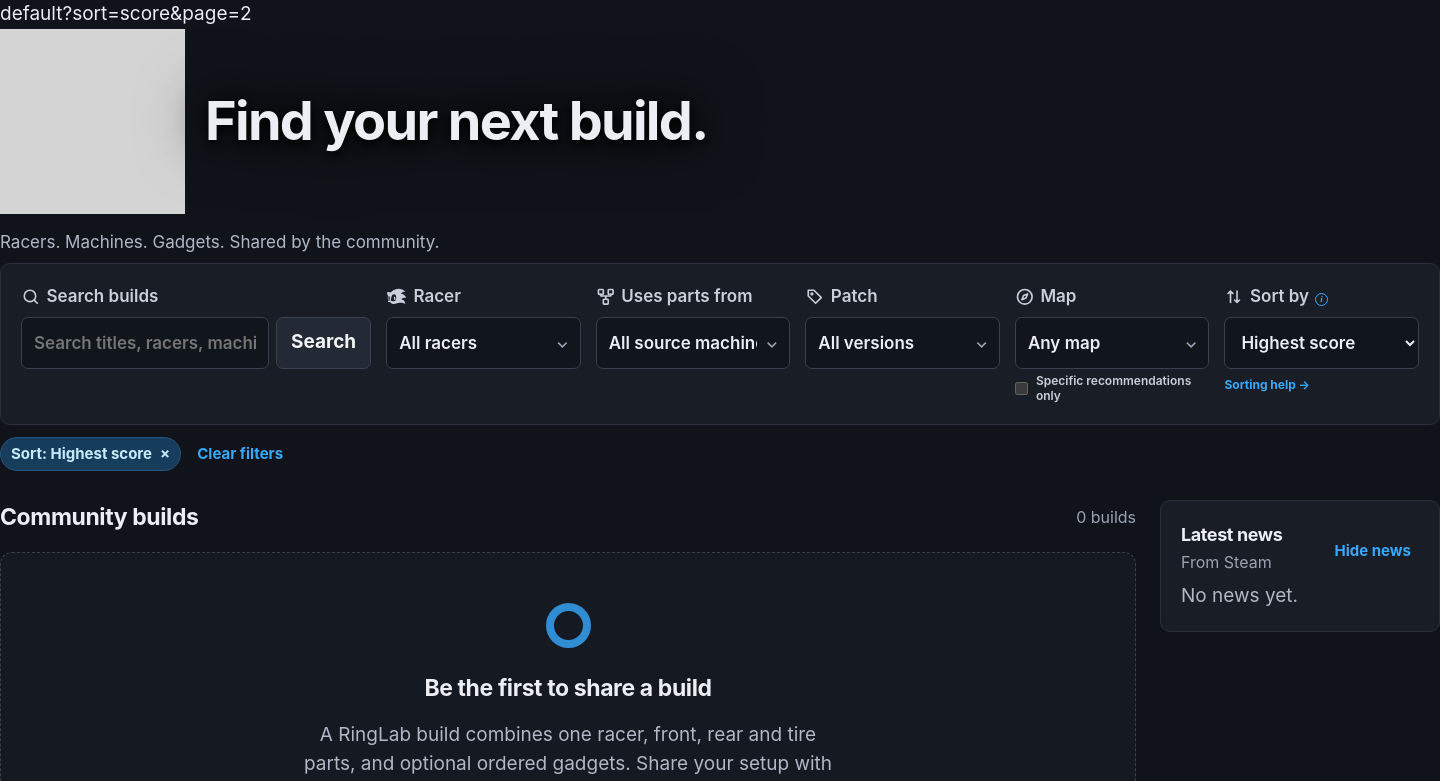
Test case: removing the sort chip clears the saved preference and restores Best rated
Click the button with aria-label "Remove Sort: Highest score": click(91, 454) [0,437,181,471]
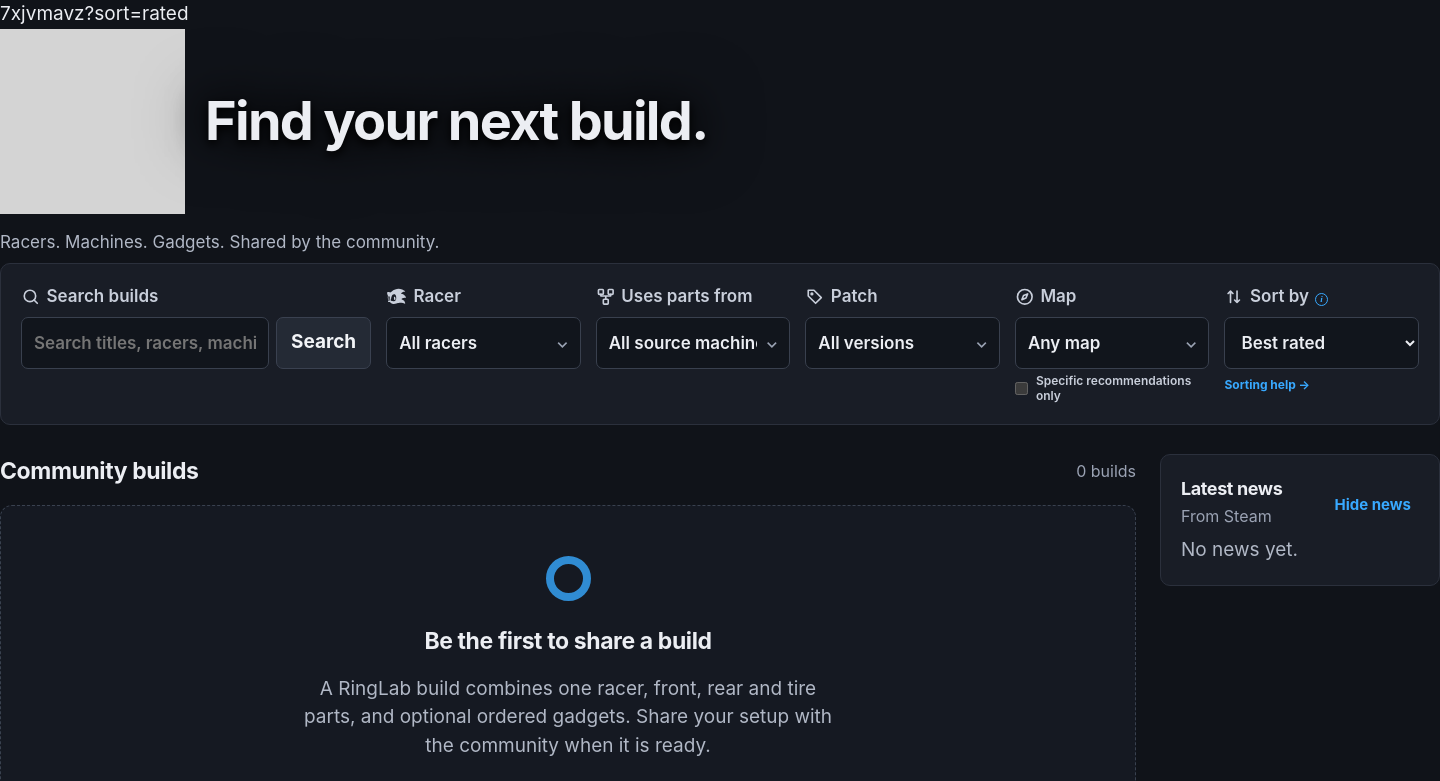
expect the text with test id "location" shows "?sort=rated": met, box [85,2,188,25]
expect the dropdown labelled "Sort by i" shows "Best rated": met, box [1224,316,1419,368]
